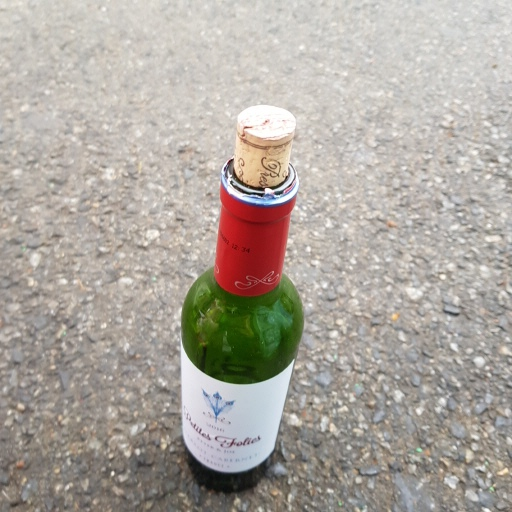Glass_2: (180, 100, 306, 492)
